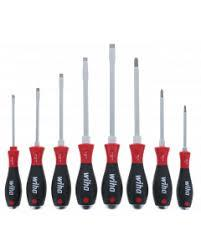screwdriver: (100, 41, 122, 209), (125, 56, 148, 209), (75, 55, 96, 209), (49, 72, 71, 210), (24, 84, 48, 209), (151, 87, 172, 210), (3, 92, 22, 208), (173, 103, 193, 210)
